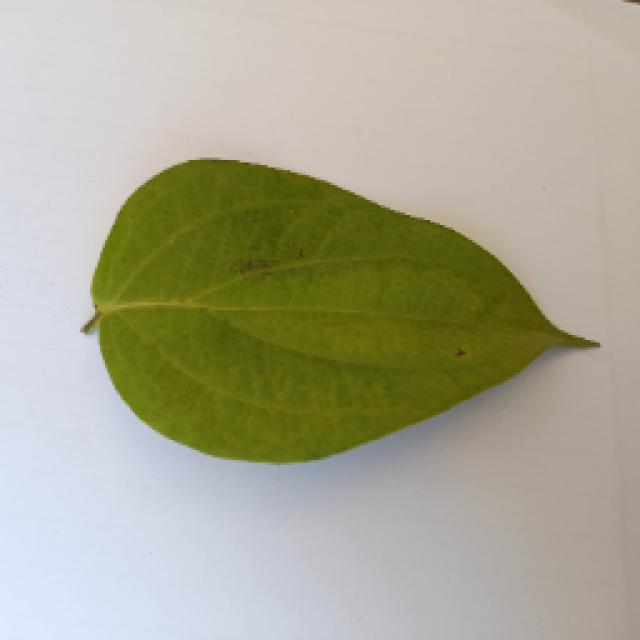slow-decline: (75, 155, 600, 465)
